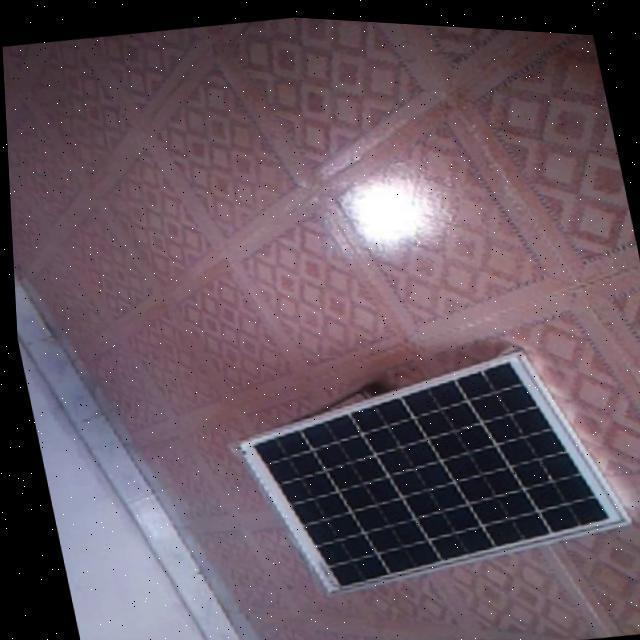Normal Solar Panel: (216, 321, 636, 616)
